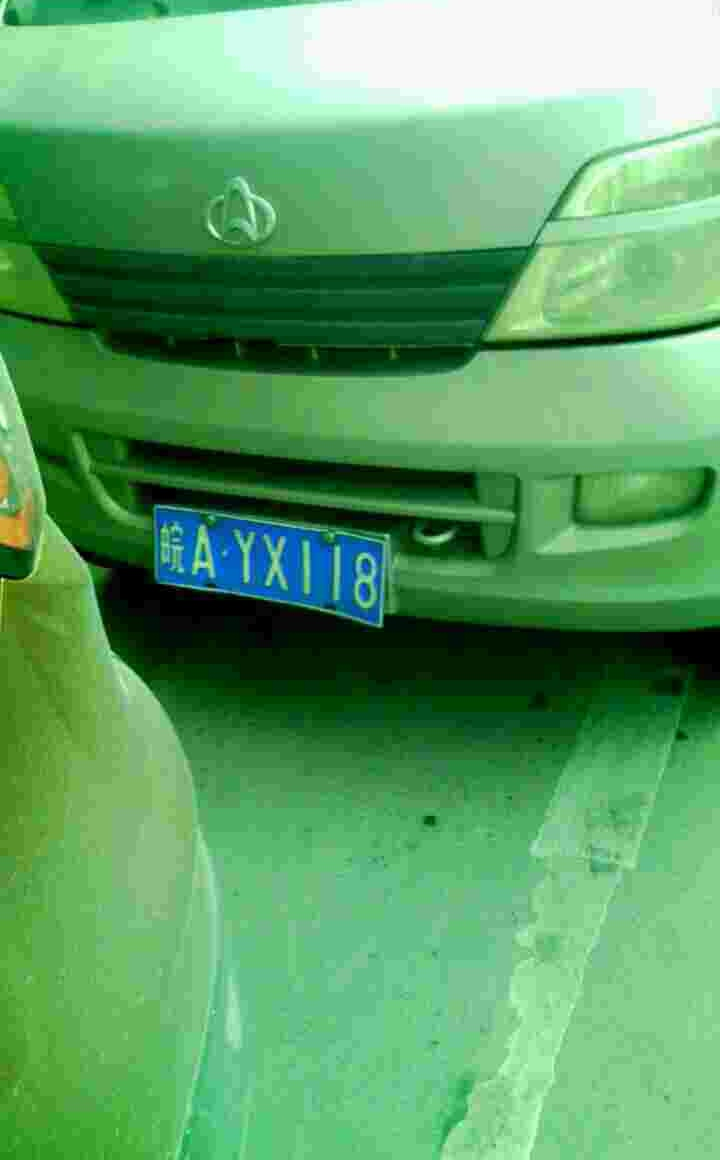license_plate: (162, 504, 379, 628)
